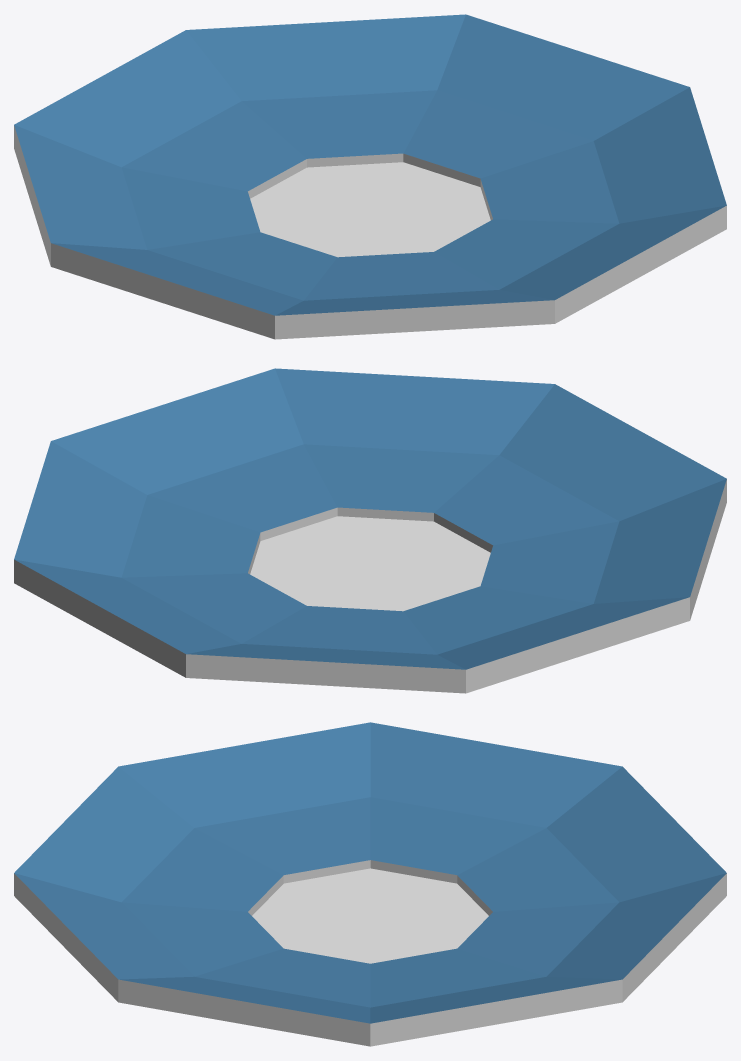
File: C_Plate_Small_1.fbx
3 renders of one model, top to bottom at view 1: azimuth 30°, elevation 25°; view 2: azimuth 150°, elevation 25°; view 3: azimuth 270°, elevation 25°, orthographic. The views are drawn at different scales.
Visible parts, largest first — view 1: C_Plate_Small_1; view 2: C_Plate_Small_1; view 3: C_Plate_Small_1.
Boxes of the visible parts, left/top/right/bottom form: C_Plate_Small_1: left=14, top=14, right=726, bottom=339; C_Plate_Small_1: left=14, top=368, right=726, bottom=693; C_Plate_Small_1: left=14, top=722, right=726, bottom=1046.
Size of the model in its own units: 94.86 by 94.86 by 10.31.
